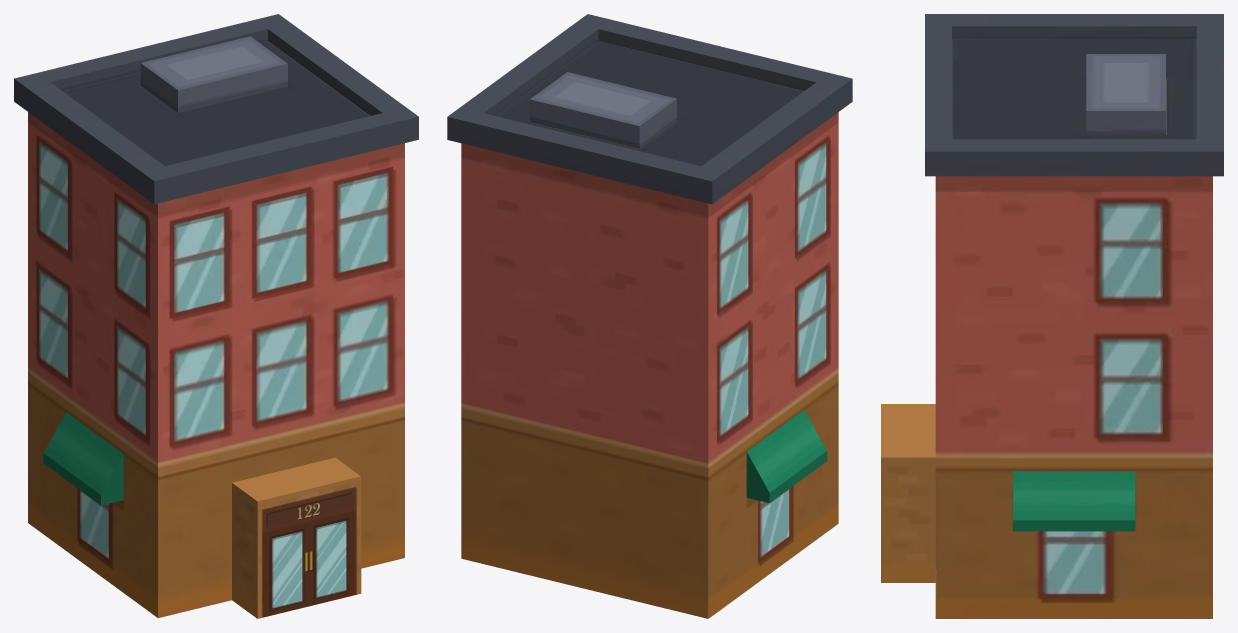
The model's file is city_apartment_block.glb.
The picture shows the model from 3 angles, left to right: view 1: azimuth 30°, elevation 25°; view 2: azimuth 150°, elevation 25°; view 3: azimuth 270°, elevation 25°; orthographic projection. The views are drawn at different scales.
Visible parts, largest first — view 1: city:polySurface336; view 2: city:polySurface336; view 3: city:polySurface336.
Part boxes in pixels (x1,y1,x2,y2): city:polySurface336: (14,14,418,618); city:polySurface336: (447,14,852,618); city:polySurface336: (881,14,1223,618).
Size of the model in its own units: 6.7 by 9.95 by 6.39.
1 material, 1 textured.
